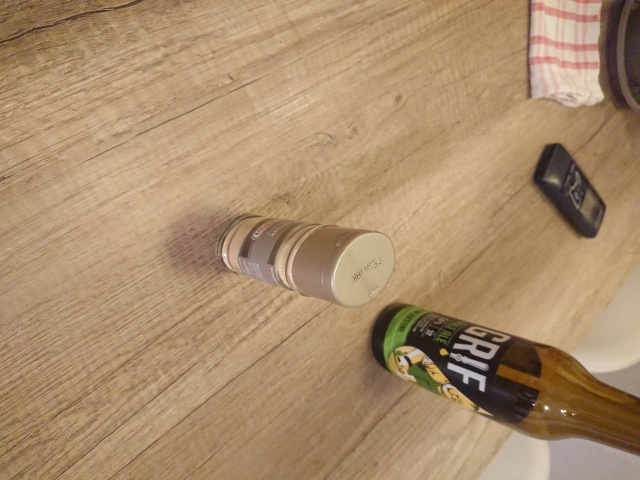Kotanyi Garlic Granules 70g: (214, 210, 398, 311)
